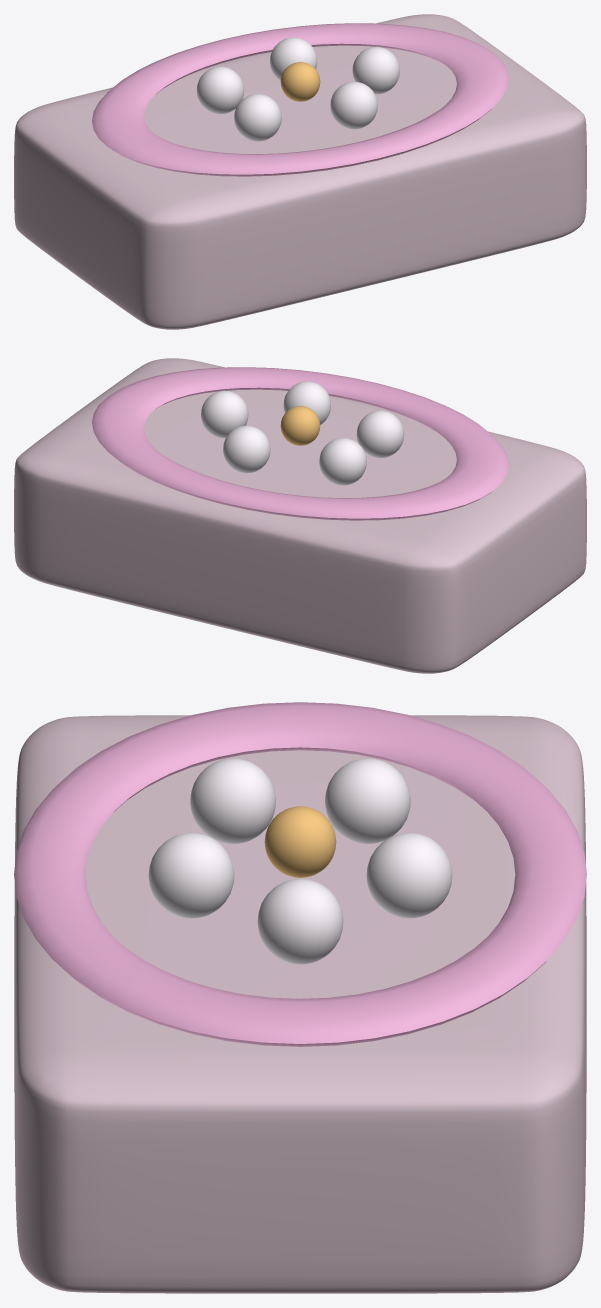
The model's file is soap.fbx.
3 views of the same model, one above another, from view 1: azimuth 30°, elevation 25°; view 2: azimuth 150°, elevation 25°; view 3: azimuth 270°, elevation 25° (orthographic). The views are drawn at different scales.
Parts seen in each view (by area): view 1: soap; view 2: soap; view 3: soap.
Part boxes in pixels (x1,y1,x2,y2): soap: (14,14,586,329); soap: (14,358,586,673); soap: (14,702,586,1293).
Bounding box in the file's own units: 1.3 × 0.4748 × 0.8.
